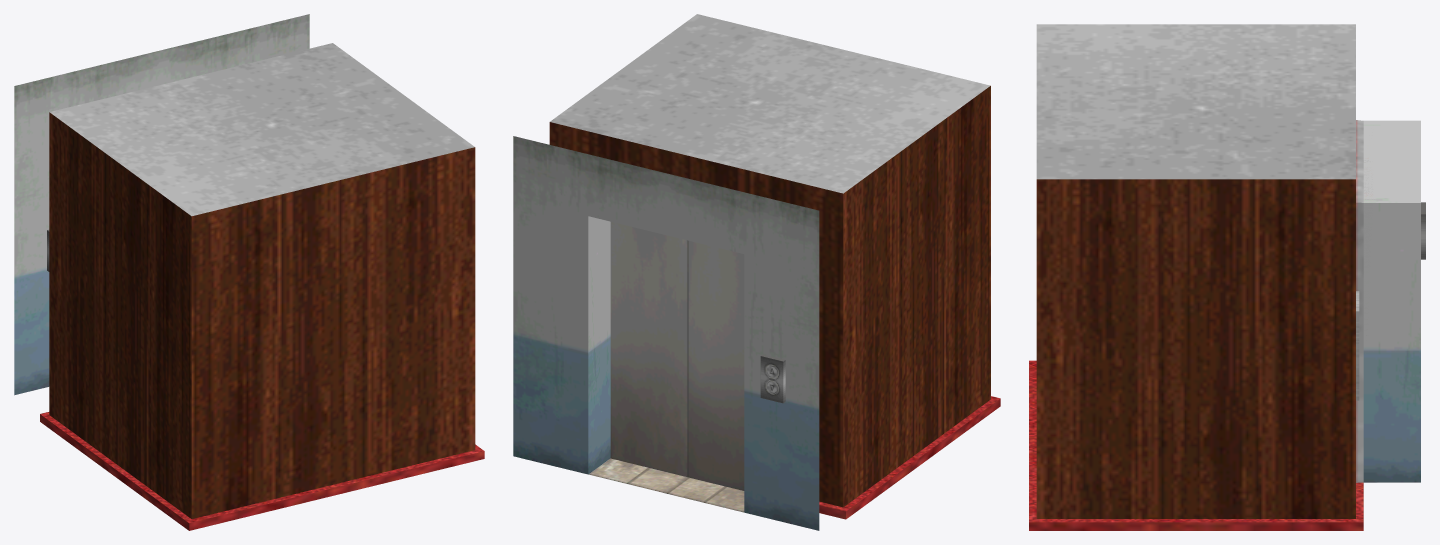
3 renders of one model, left to right at view 1: azimuth 30°, elevation 25°; view 2: azimuth 150°, elevation 25°; view 3: azimuth 270°, elevation 25°, orthographic. The views are drawn at different scales.
Visible parts, largest first — view 1: Elevator, EleWall; view 2: Elevator, EleWall, LeftEleDoor, RightEleDoor, EleWallButton; view 3: Elevator, EleWall.
Part boxes in pixels (x1,y1,x2,y2): Elevator: (40,43,484,530); EleWall: (14,14,309,395); Elevator: (549,14,1000,519); EleWall: (513,136,819,530); LeftEleDoor: (610,222,688,477); RightEleDoor: (688,241,744,490); EleWallButton: (760,354,785,403); Elevator: (1029,24,1363,530); EleWall: (1363,120,1420,482).
Size of the model in its own units: 400 by 410 by 415.
